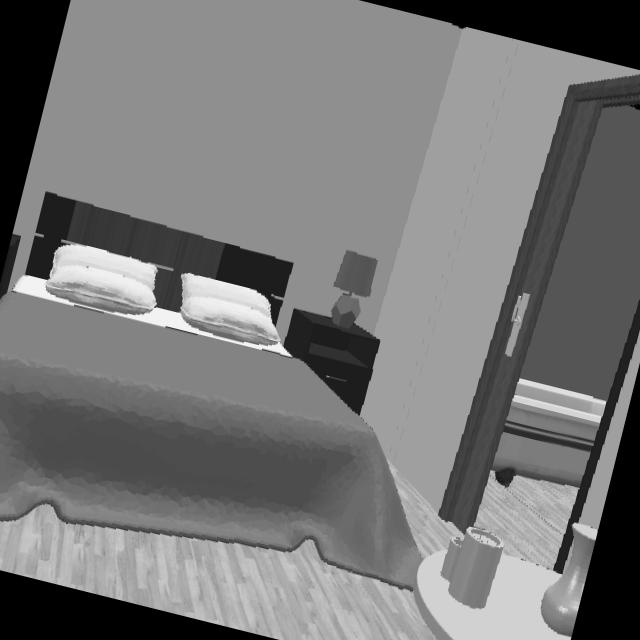bathtube: (491, 378, 607, 488)
bed: (0, 277, 419, 591)
lamp: (328, 252, 376, 336)
nighttable: (283, 310, 380, 414)
pillow: (45, 244, 158, 316), (179, 273, 279, 345)
table: (412, 530, 571, 640)
